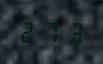seven: (40, 19, 60, 44)
three: (61, 20, 81, 44)
two: (18, 19, 38, 43)
